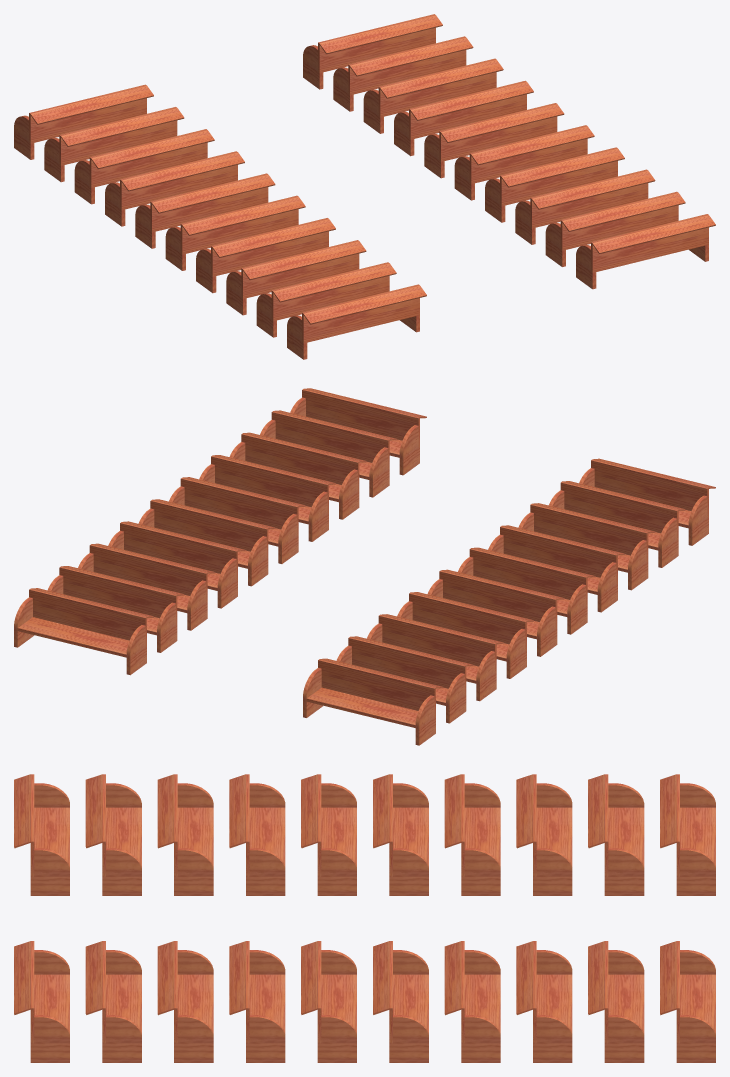
The model's file is bancas.obj.
3 views of the same model, one above another, from view 1: azimuth 30°, elevation 25°; view 2: azimuth 150°, elevation 25°; view 3: azimuth 270°, elevation 25° (orthographic). The views are drawn at different scales.
Parts seen in each view (by area): view 1: banca71:polySurface12; view 2: banca71:polySurface12; view 3: banca71:polySurface12.
Boxes of the visible parts, box(x1,y1,x2,y2) form: banca71:polySurface12: box(14, 14, 715, 359); banca71:polySurface12: box(14, 388, 715, 745); banca71:polySurface12: box(14, 774, 715, 1062).
Bounding box in the file's own units: 15.43 × 1.68 × 19.56.
100 materials, 100 textured.
